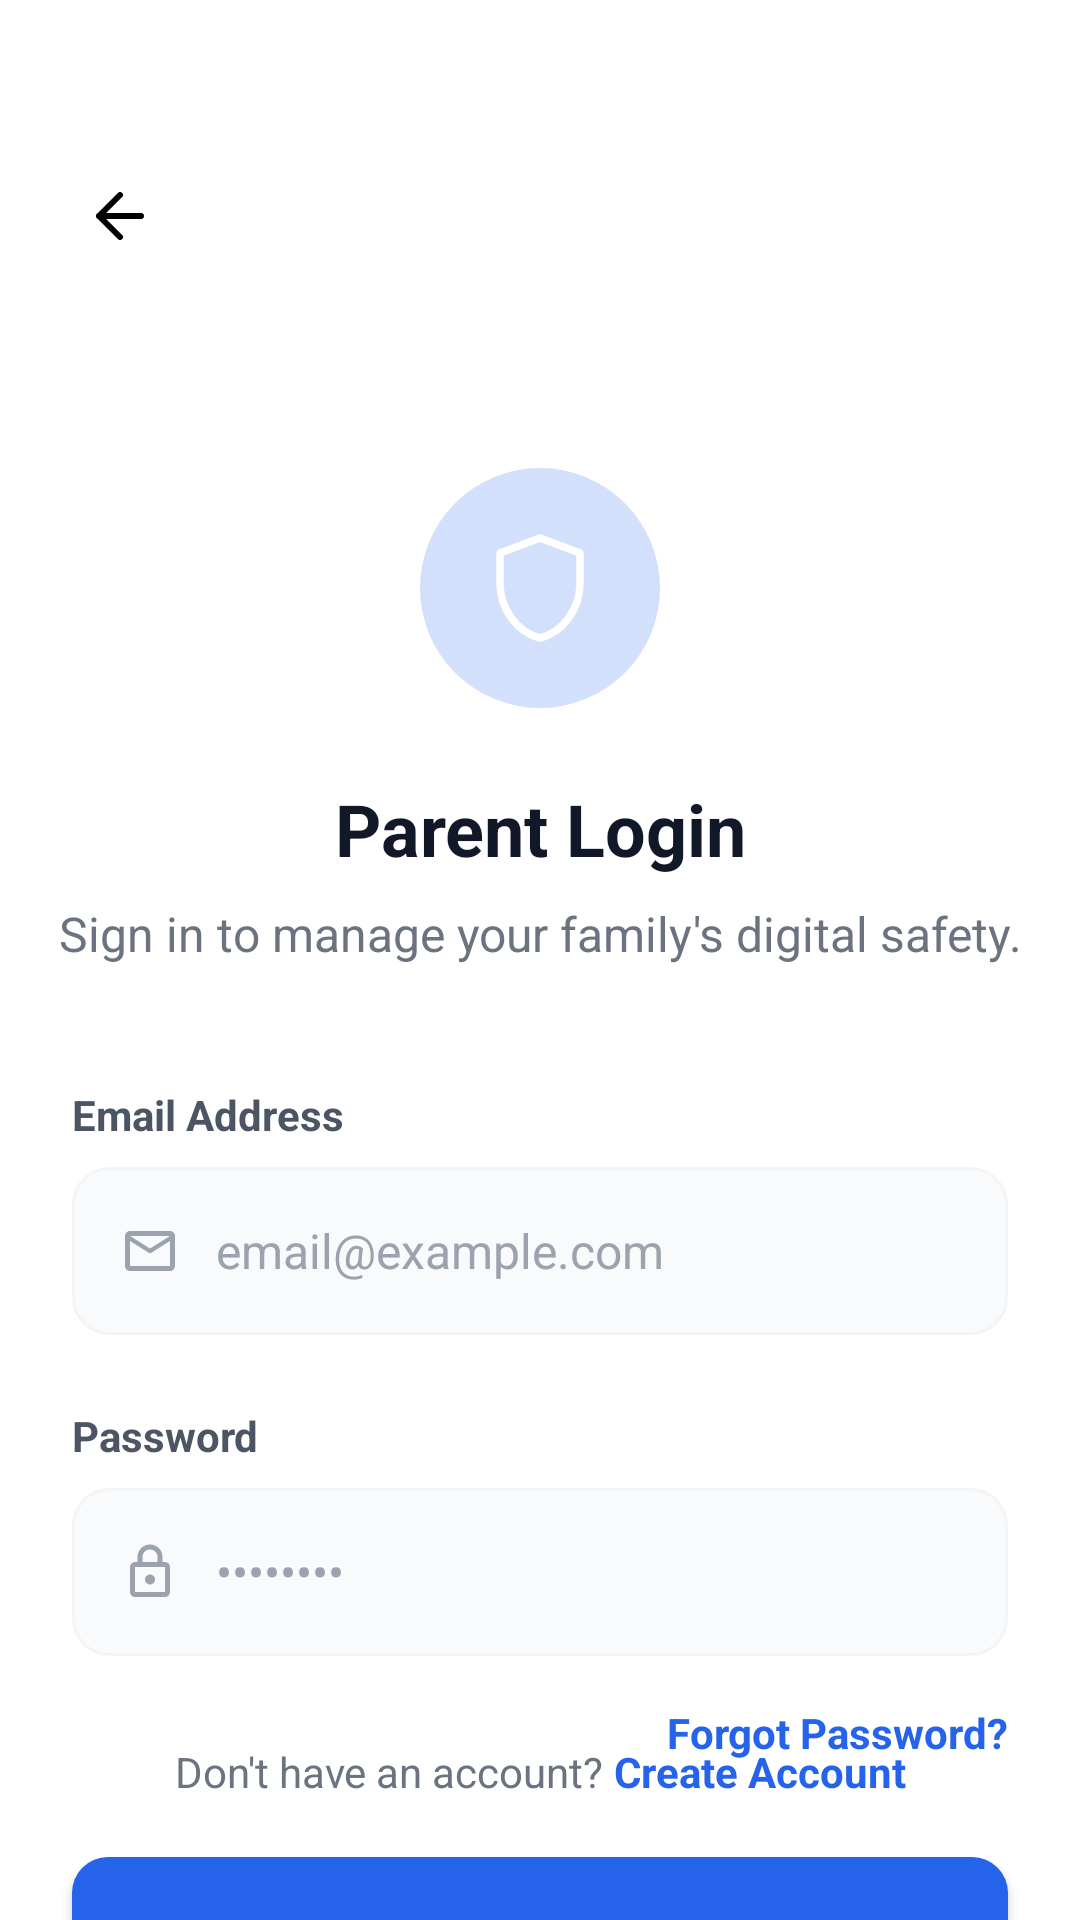

Where to tap for icons on this 1080 x 1920 app screen, as [x,y]:
back: [120,216]
lock: [150,1570]
shield: [540,588]
